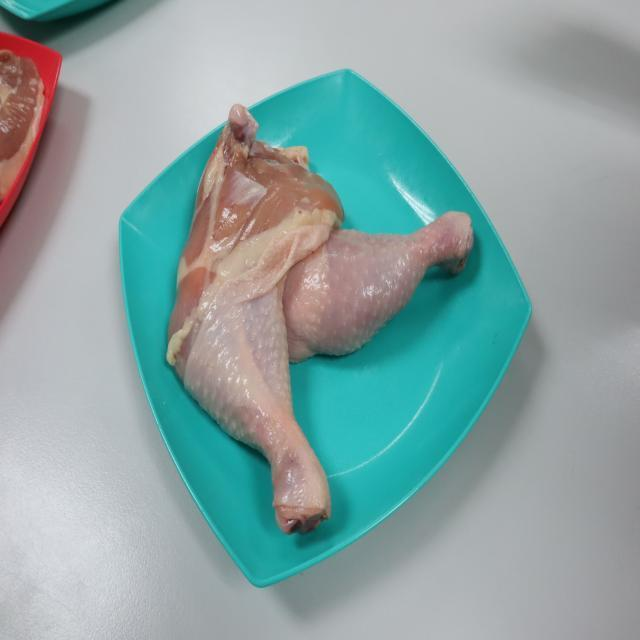quater: (180, 126, 342, 578), (273, 233, 509, 360)
